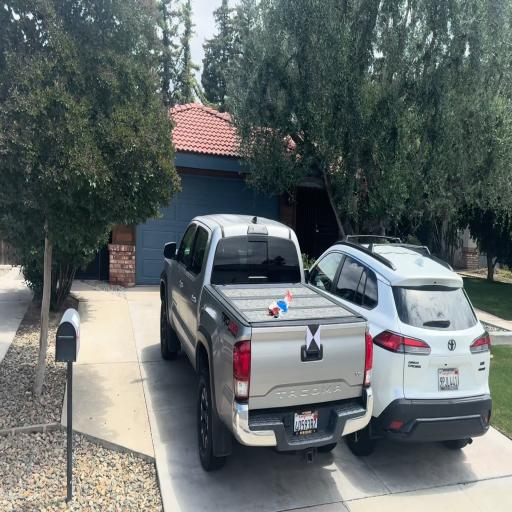target: (307, 324, 321, 351)
